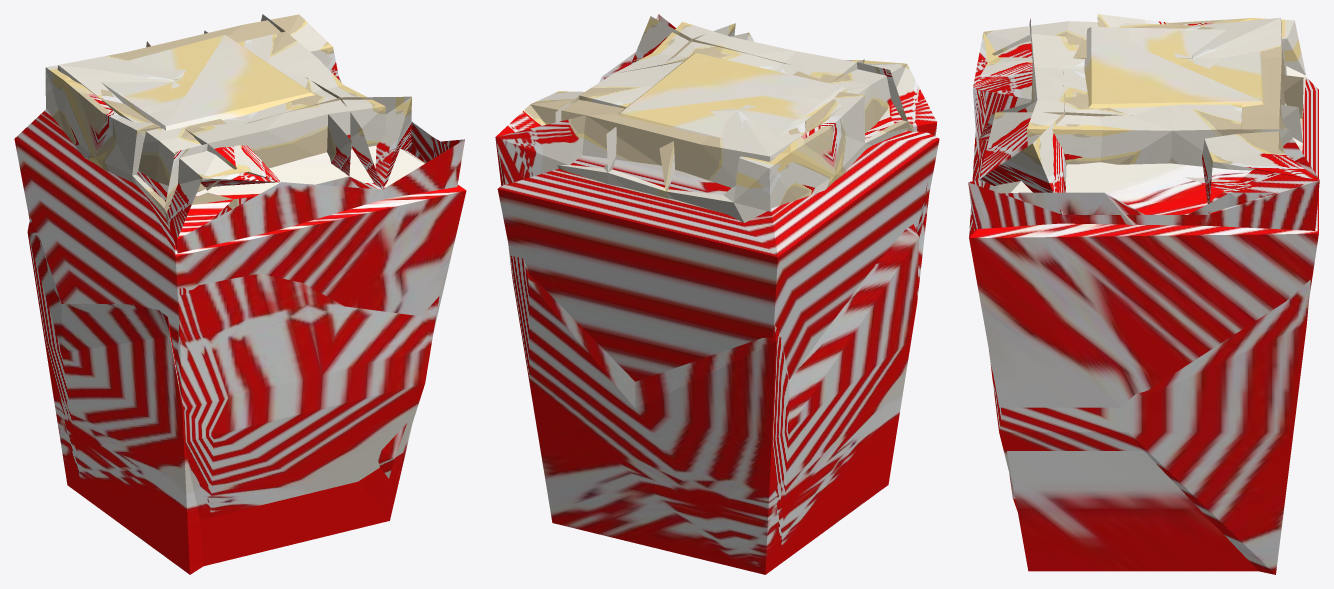
Rendered from imp-popcorn.glb.
3 renders of one model, left to right at view 1: azimuth 30°, elevation 25°; view 2: azimuth 150°, elevation 25°; view 3: azimuth 270°, elevation 25°, orthographic. The views are drawn at different scales.
Visible parts, largest first — view 1: Kerbside_metres_ground_pivot (×3); view 2: Kerbside_metres_ground_pivot (×3); view 3: Kerbside_metres_ground_pivot (×3).
Boxes of the visible parts, x1=… form: Kerbside_metres_ground_pivot (×3): x1=14, y1=14, x2=466, y2=574; Kerbside_metres_ground_pivot (×3): x1=495, y1=14, x2=939, y2=574; Kerbside_metres_ground_pivot (×3): x1=968, y1=14, x2=1319, y2=574.
Size of the model in its own units: 0.1428 by 0.2 by 0.1435.
Materials: 1 (1 with a texture image).
